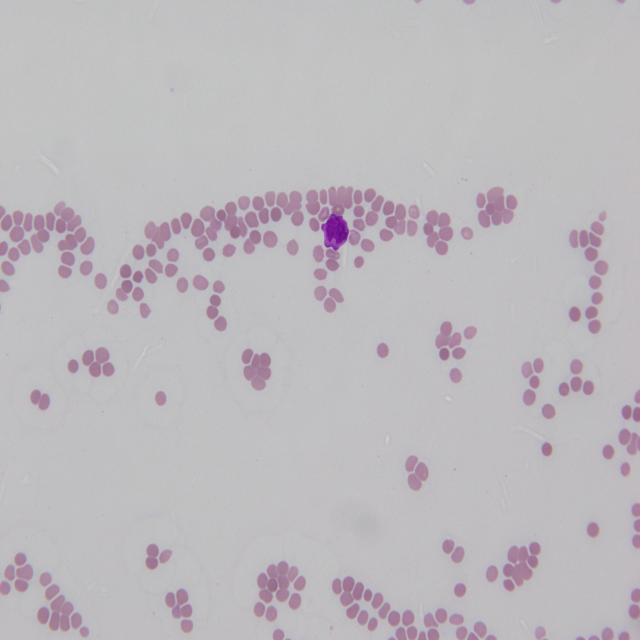cell: (321, 214, 349, 250)
